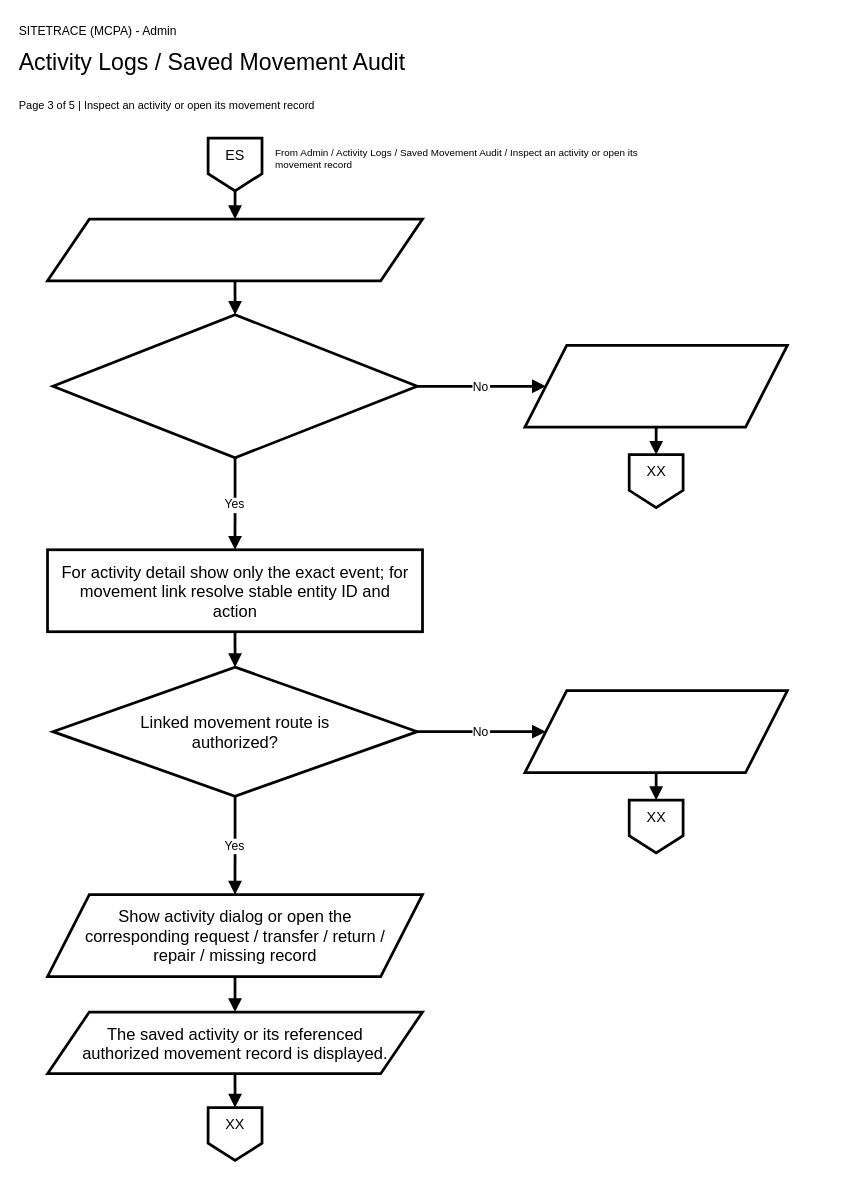
Image size: 859x1180. Some labels were removed from this diagram. Here are the shapes that lost their labels. From the top down, the centre of each, then its label:
At [234,249]: "Follow activity?record=event-ID, or select a linked movement action in the table".
At [234,386]: "Exact activity record remains authorized and loaded?".
At [655,385]: "Show activity no longer available / access denied feedback".
At [655,731]: "Display access denial or unavailable record in the owning module".
